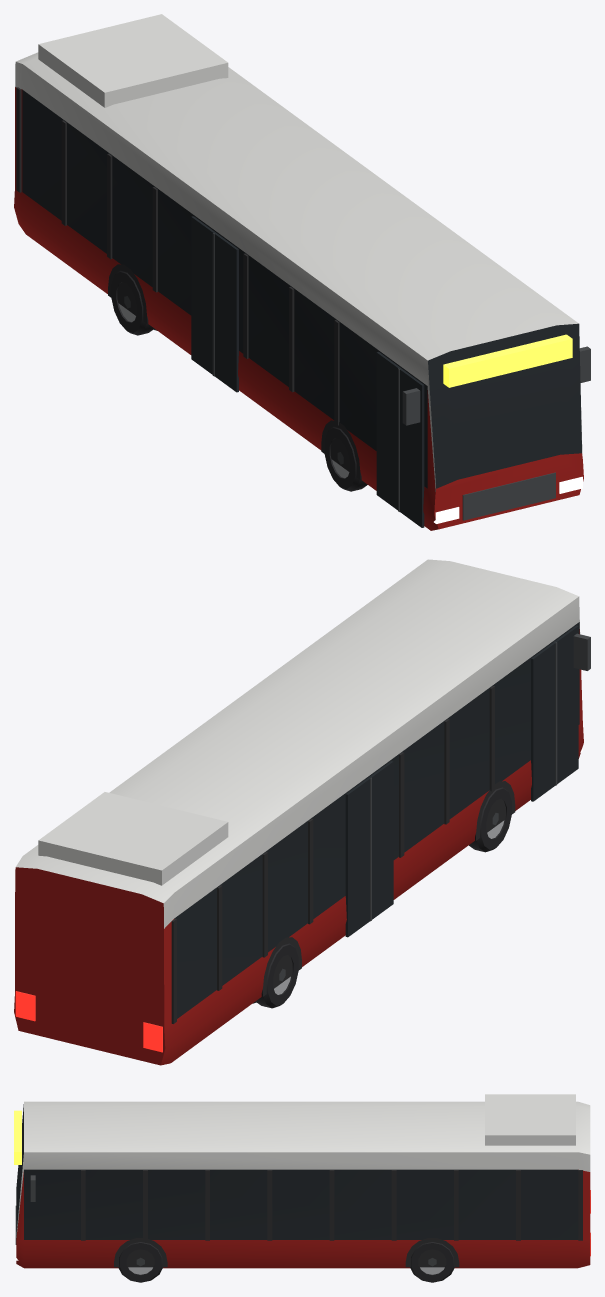
The model's file is bus.glb.
3 renders of one model, top to bottom at view 1: azimuth 30°, elevation 25°; view 2: azimuth 150°, elevation 25°; view 3: azimuth 270°, elevation 25°, orthographic. The views are drawn at different scales.
Visible parts, largest first — view 1: bus; view 2: bus; view 3: bus.
Boxes of the visible parts, left/top/right/bottom form: bus: left=14, top=14, right=590, bottom=530; bus: left=14, top=559, right=590, bottom=1065; bus: left=14, top=1094, right=590, bottom=1282.
Bounding box in the file's own units: 0.183 × 0.198 × 0.7239.
